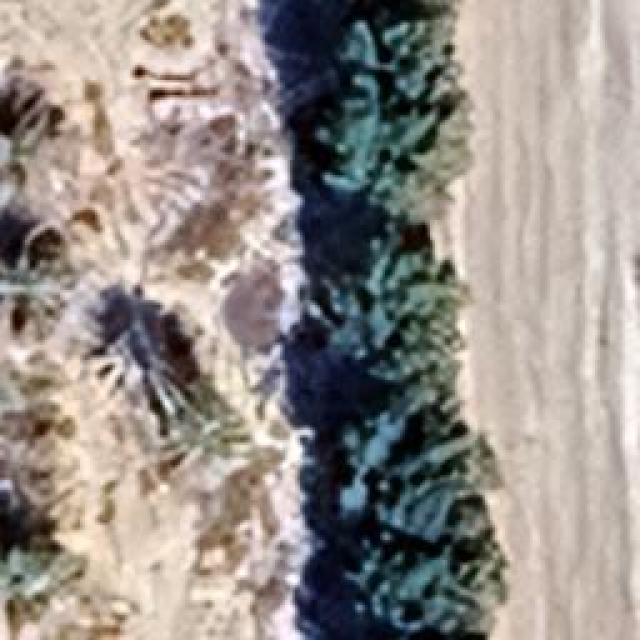PalmTree: (85, 290, 200, 412), (160, 408, 252, 480), (0, 250, 62, 340), (0, 491, 50, 601), (0, 88, 38, 196)
